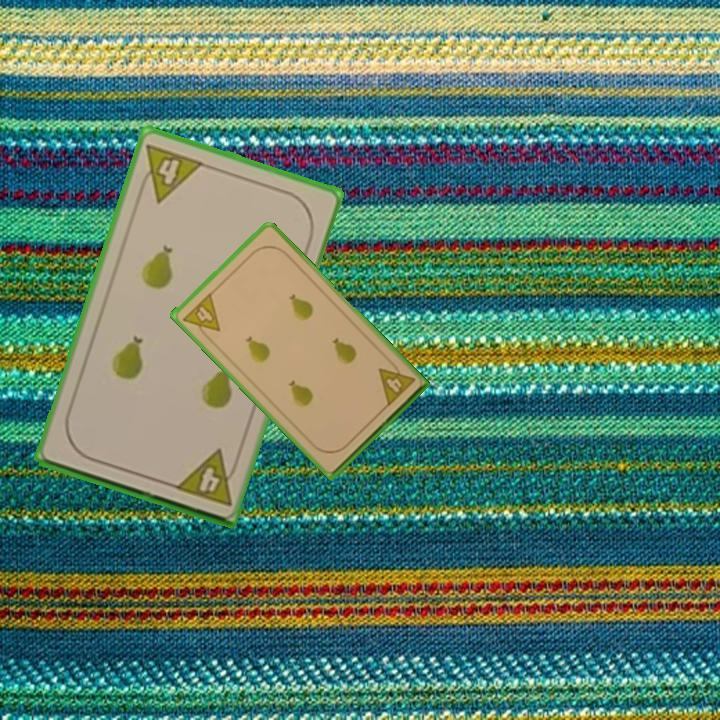4p: (133, 140, 206, 206), (170, 445, 242, 509), (179, 289, 223, 343), (374, 356, 418, 409)
